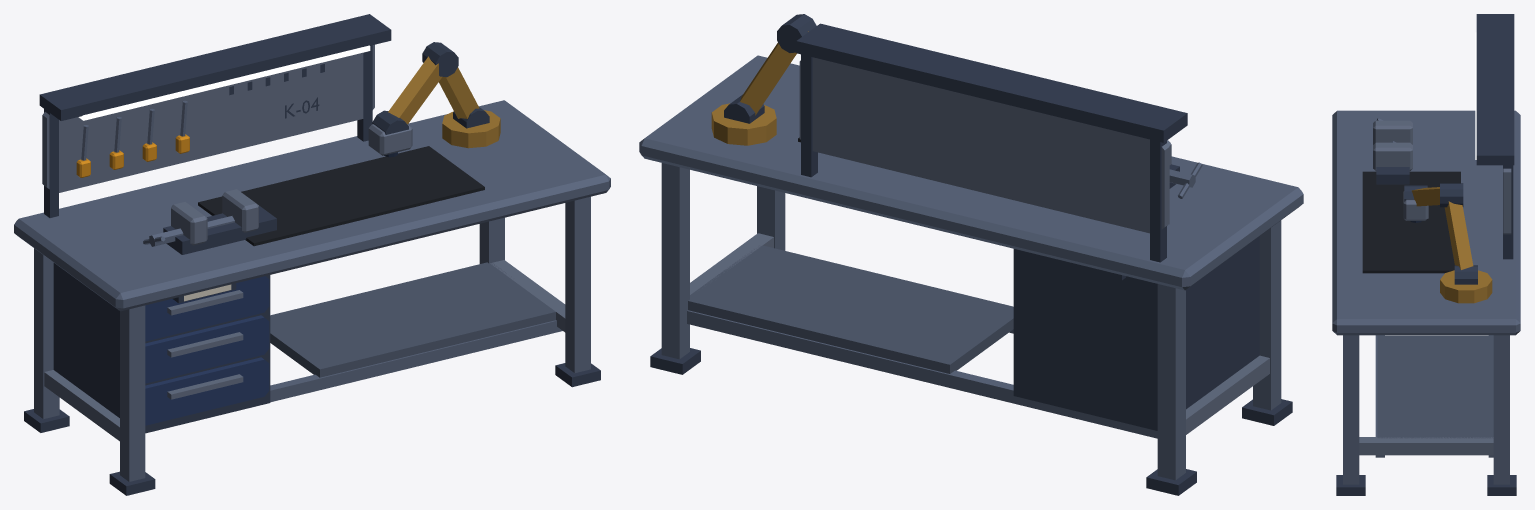
Rendered from wh_workbench_weapons.glb.
The picture shows the model from 3 angles, left to right: view 1: azimuth 30°, elevation 25°; view 2: azimuth 150°, elevation 25°; view 3: azimuth 270°, elevation 25°; orthographic projection. The views are drawn at different scales.
Visible parts, largest first — view 1: countertop, backsplash_post, end_tie, lower_shelf, drawer, work_mat, arm_base, task_light, tool_grip; view 2: countertop, backsplash_post, end_tie, lower_shelf, arm_base; view 3: countertop, lower_shelf, backsplash_post, work_mat, end_tie, arm_base, task_light.
Part boxes in pixels (x1,y1,x2,y2): countertop: (14,100,610,481); backsplash_post: (24,14,600,495); end_tie: (42,44,565,441); lower_shelf: (270,262,555,377); drawer: (145,276,269,425); work_mat: (198,146,484,246); arm_base: (388,56,500,148); task_light: (78,45,370,120); tool_grip: (76,134,189,177); countertop: (639,55,1303,480); backsplash_post: (650,14,1292,495); end_tie: (690,57,1269,434); lower_shelf: (688,245,1013,373); arm_base: (711,31,808,145); countertop: (1332,110,1520,484); lower_shelf: (1377,335,1493,438); backsplash_post: (1336,14,1516,495); work_mat: (1362,171,1460,273); end_tie: (1359,120,1511,455); arm_base: (1411,187,1492,303); task_light: (1475,32,1476,159).
Bounding box in the file's own units: 2.4 × 1.5 × 0.9.
